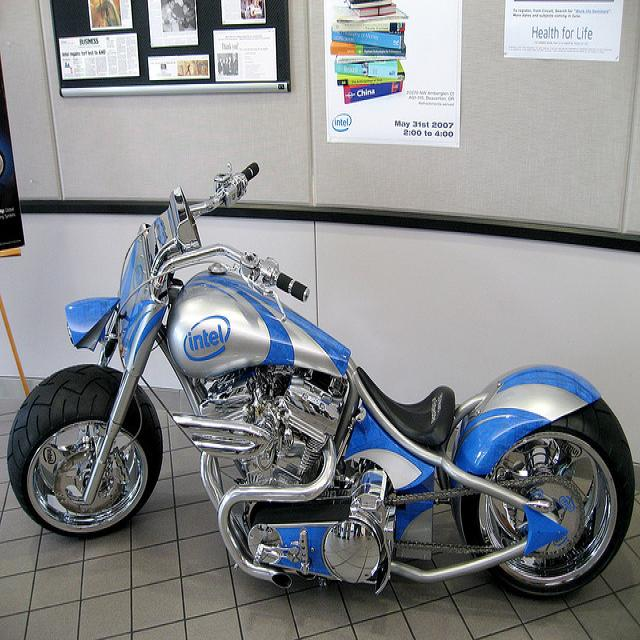motor: (9, 159, 640, 605)
